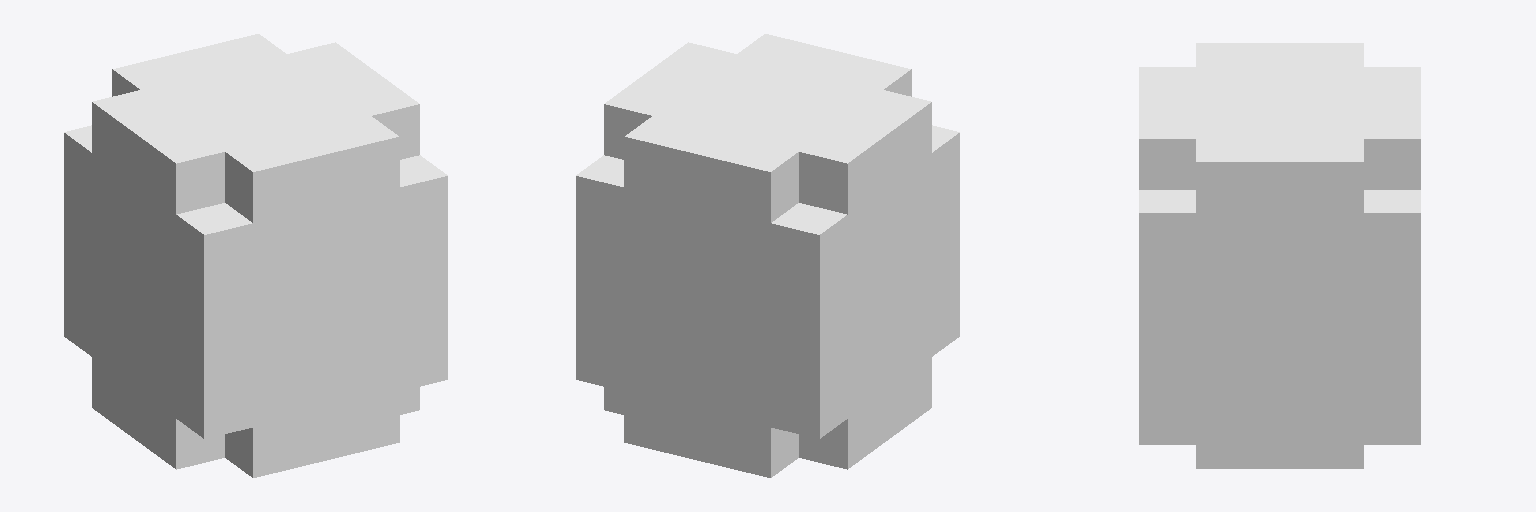
File: obj-barrel.obj
The picture shows the model from 3 angles: view 1: azimuth 30°, elevation 25°; view 2: azimuth 150°, elevation 25°; view 3: azimuth 270°, elevation 25°; orthographic projection.
Parts seen in each view (by area): view 1: barrel; view 2: barrel; view 3: barrel.
Part boxes in pixels (x1,y1,x2,y2): barrel: (64, 34, 447, 477); barrel: (576, 34, 959, 477); barrel: (1139, 43, 1420, 468).
Size of the model in its own units: 0.5 by 0.6 by 0.5.